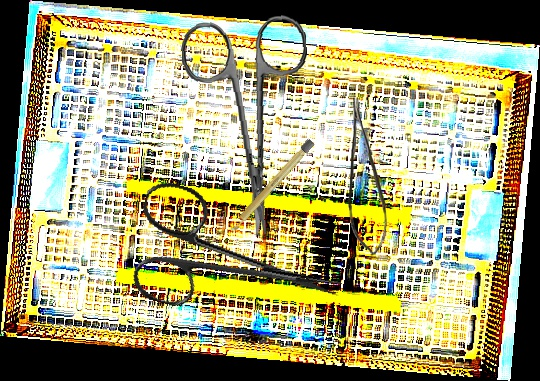Iris Scissors: (121, 178, 356, 344), (179, 13, 320, 242)
Micro Scissor: (348, 97, 388, 256)
Scalpel Handle: (226, 138, 316, 235)
